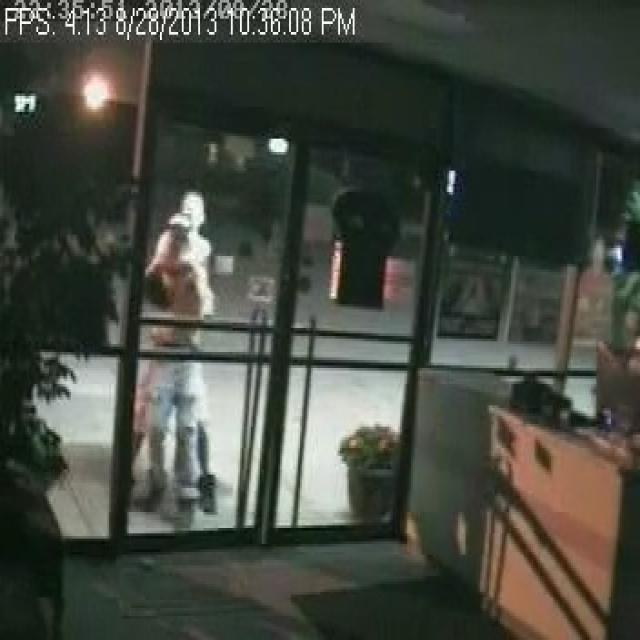fight: (139, 191, 218, 530)
